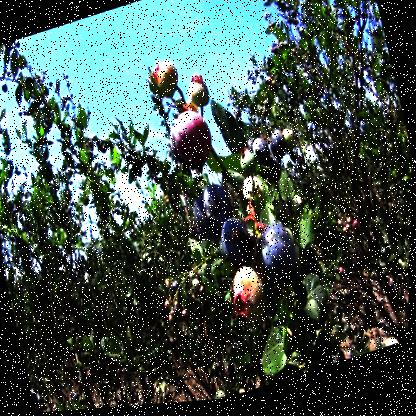intermediate: (162, 106, 221, 180), (228, 262, 274, 330)
mature: (252, 218, 311, 290), (210, 215, 262, 280), (197, 168, 240, 237), (186, 197, 217, 240), (248, 137, 277, 174), (272, 137, 288, 161), (271, 162, 283, 183)
young: (182, 67, 225, 121), (239, 174, 281, 226), (147, 60, 189, 109), (236, 150, 260, 180), (281, 127, 303, 156), (195, 284, 201, 291)
